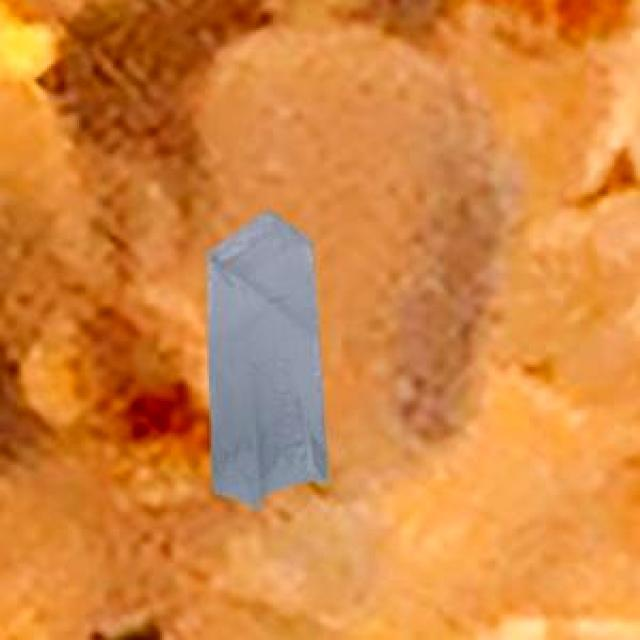Plastic_Bag: (206, 208, 325, 507)
